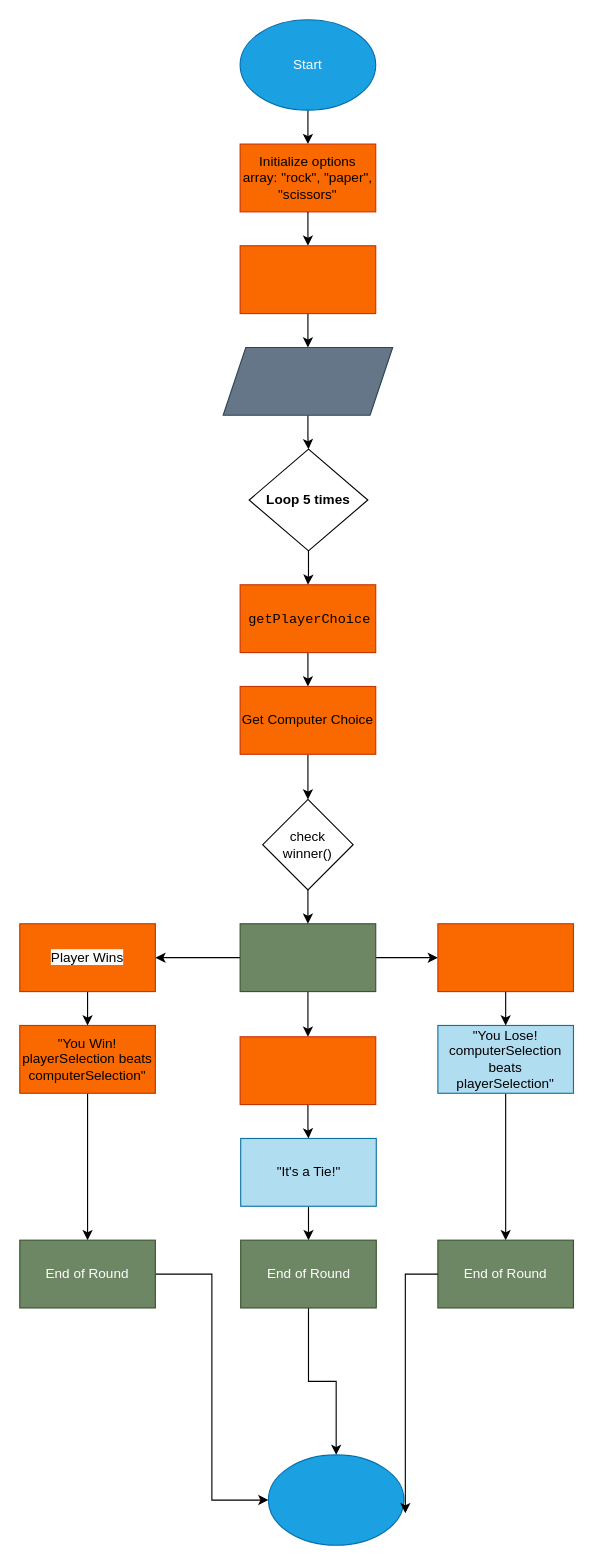
This 593x1565 diagram has some shape labels left out. Here are the shapes that lost their labels. From the top down, the box of each, then its label:
(239, 245, 376, 314): Call game() function
(222, 346, 393, 415): Output : "Welcome!"
(239, 923, 376, 992): Winner?
(437, 923, 573, 992): Computer Wins
(239, 1036, 376, 1105): Tie
(267, 1454, 404, 1545): End
